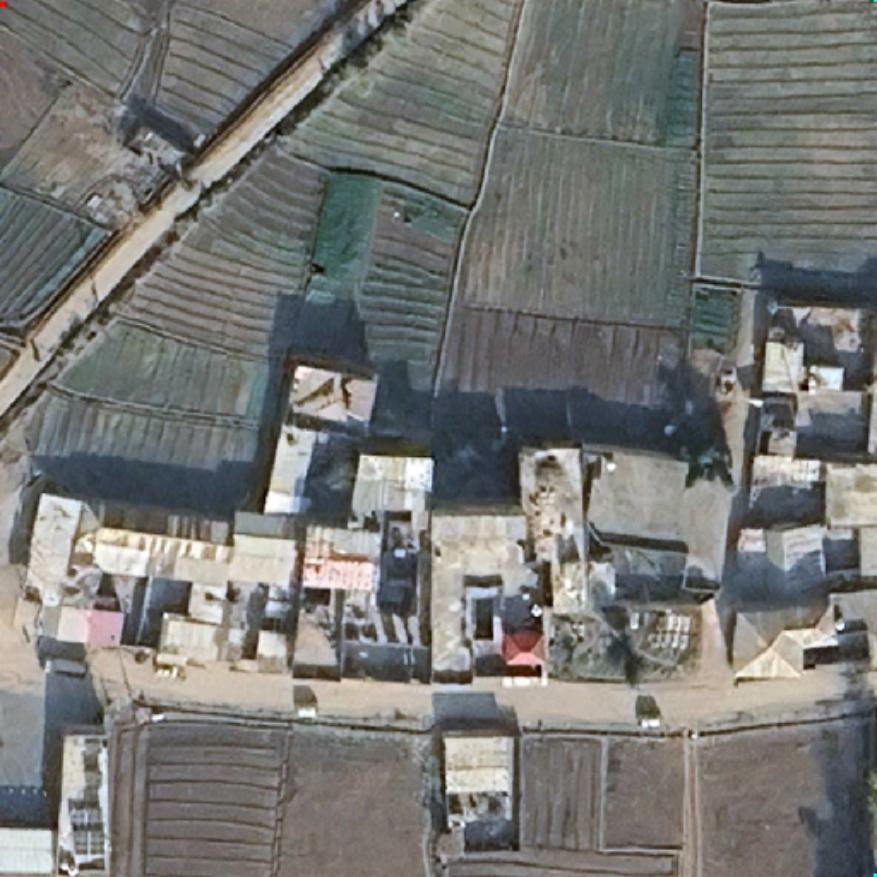Solarpanel: (72, 828, 107, 855), (68, 804, 105, 826)
